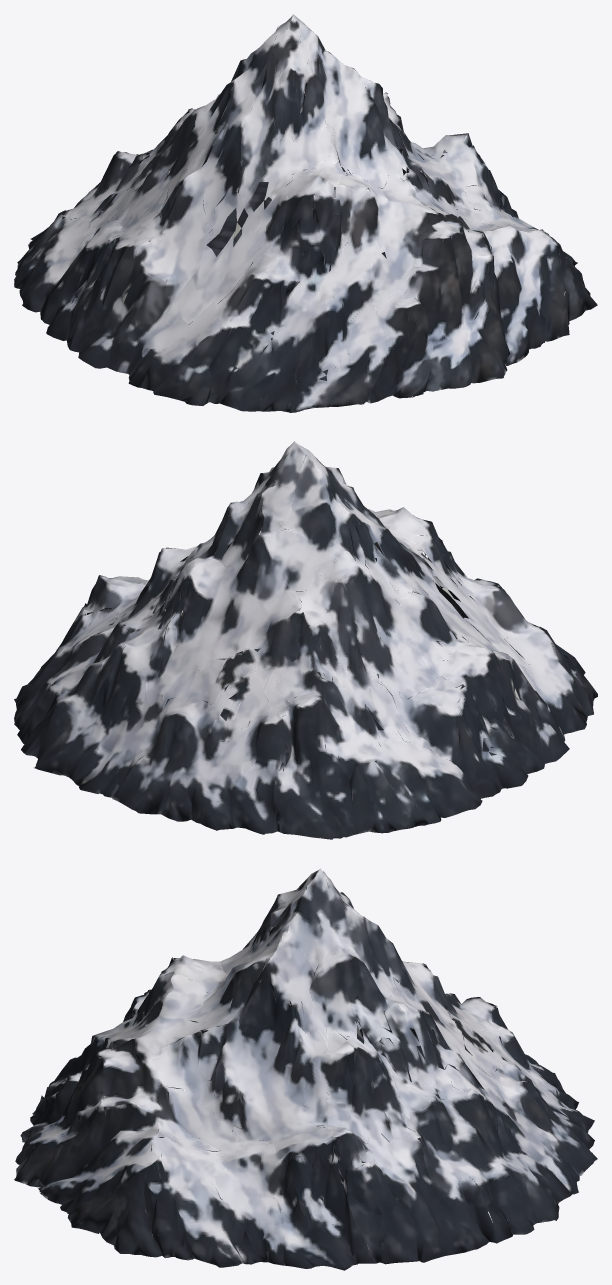
The model's file is MTN_peak_1.glb.
The picture shows the model from 3 angles, top to bottom: view 1: azimuth 30°, elevation 25°; view 2: azimuth 150°, elevation 25°; view 3: azimuth 270°, elevation 25°; orthographic projection. The views are drawn at different scales.
Visible parts, largest first — view 1: geometry_0; view 2: geometry_0; view 3: geometry_0.
Part boxes in pixels (x1,y1,x2,y2): geometry_0: (14,14,597,412); geometry_0: (14,441,597,839); geometry_0: (14,868,597,1270).
Bounding box in the file's own units: 0.9259 × 0.5103 × 0.9556.
Materials: 1 (1 with a texture image).
